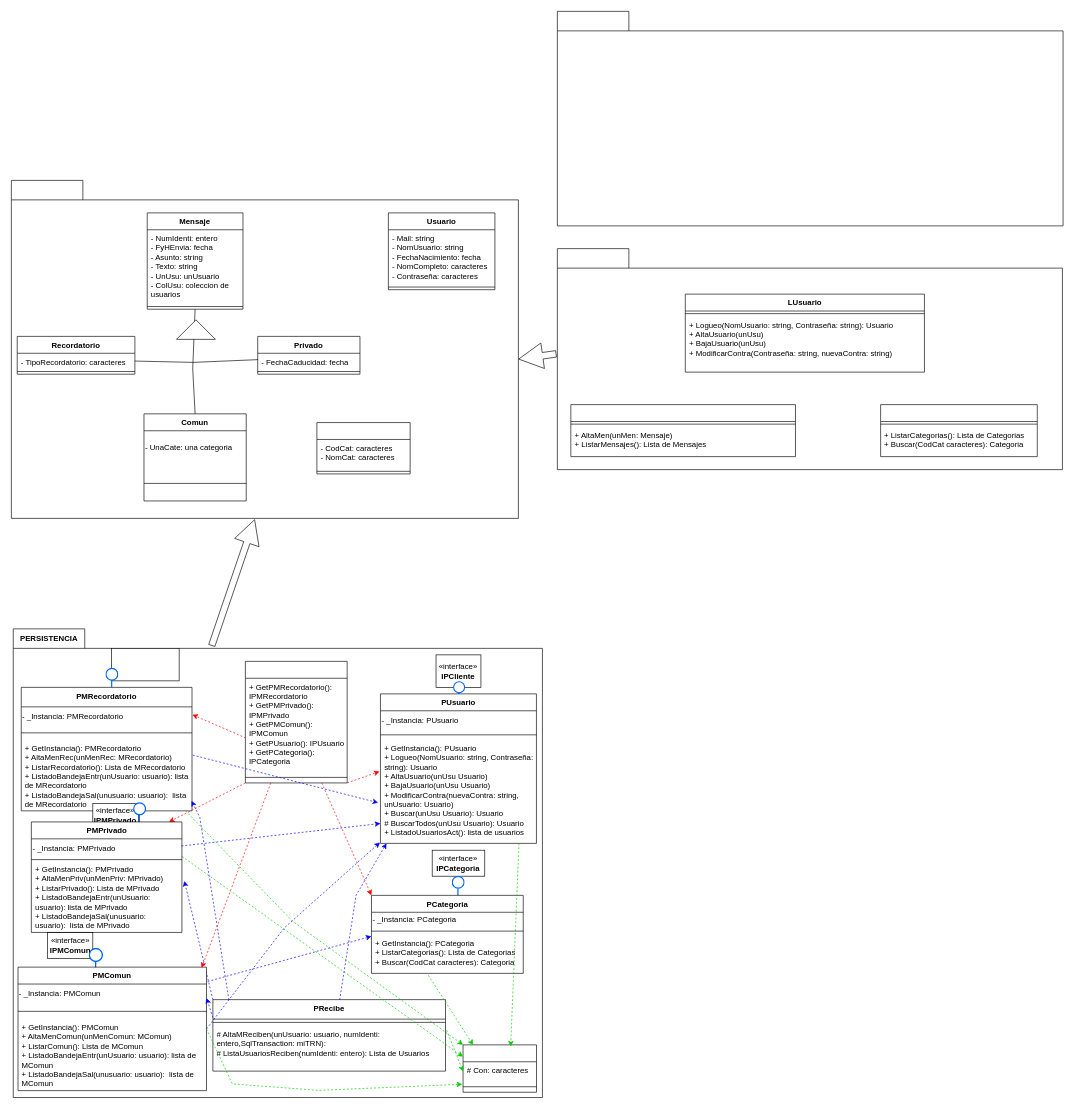
This 1080x1109 diagram has some shape labels left out. The shapes that lost their labels are listed below. From the top down, each one's box as (x1, y1, x2, y2) in pixels, then its label:
(557, 11, 1063, 226): UI
(11, 180, 518, 518): EC
(557, 248, 1062, 470): LOGICA
(316, 422, 410, 474): Categoria
(570, 404, 795, 457): LMensaje
(880, 404, 1037, 457): LCategoria
(111, 648, 179, 681): «interface» IPMRecordatorio
(245, 661, 347, 783): FabricaP
(462, 1044, 537, 1092): Conexion
